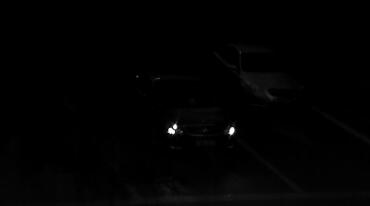car: (124, 70, 238, 154), (214, 43, 317, 112)
